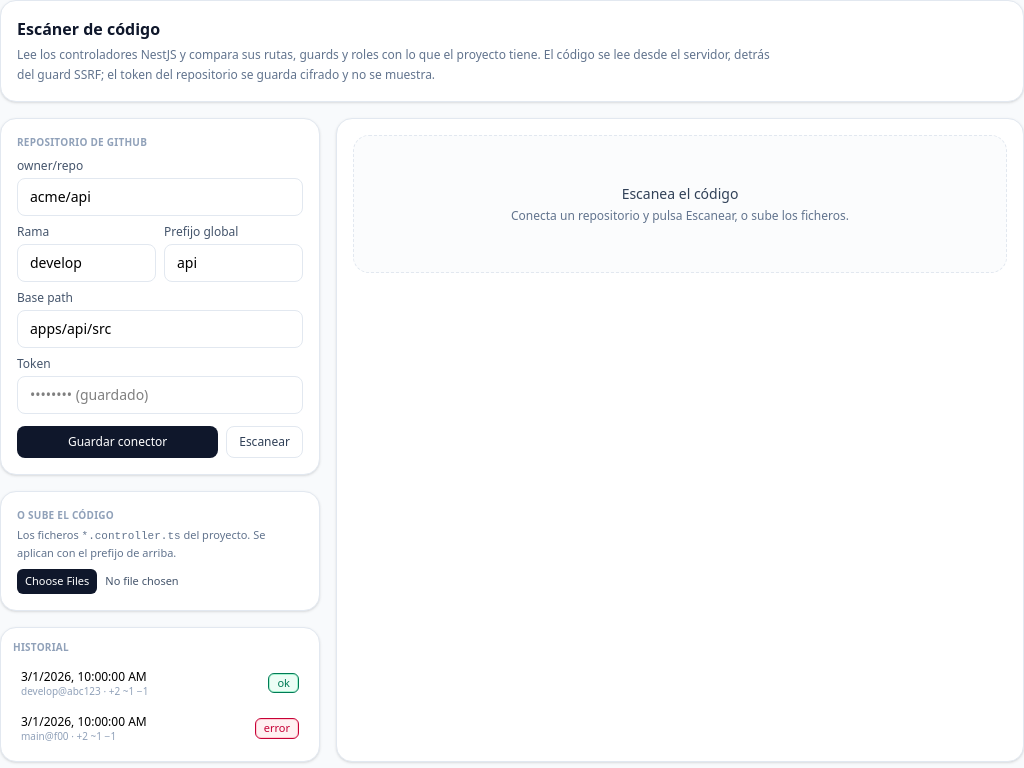
Test case: el escáner de código › elegir un escaneo del historial lo abre; uno fallido dice por qué
What coordinates should you click on to do the following:
click the text "main@f00 · +2 ~1 −1"
I would click on:
 (69, 736)
Its box is [21, 729, 116, 743].
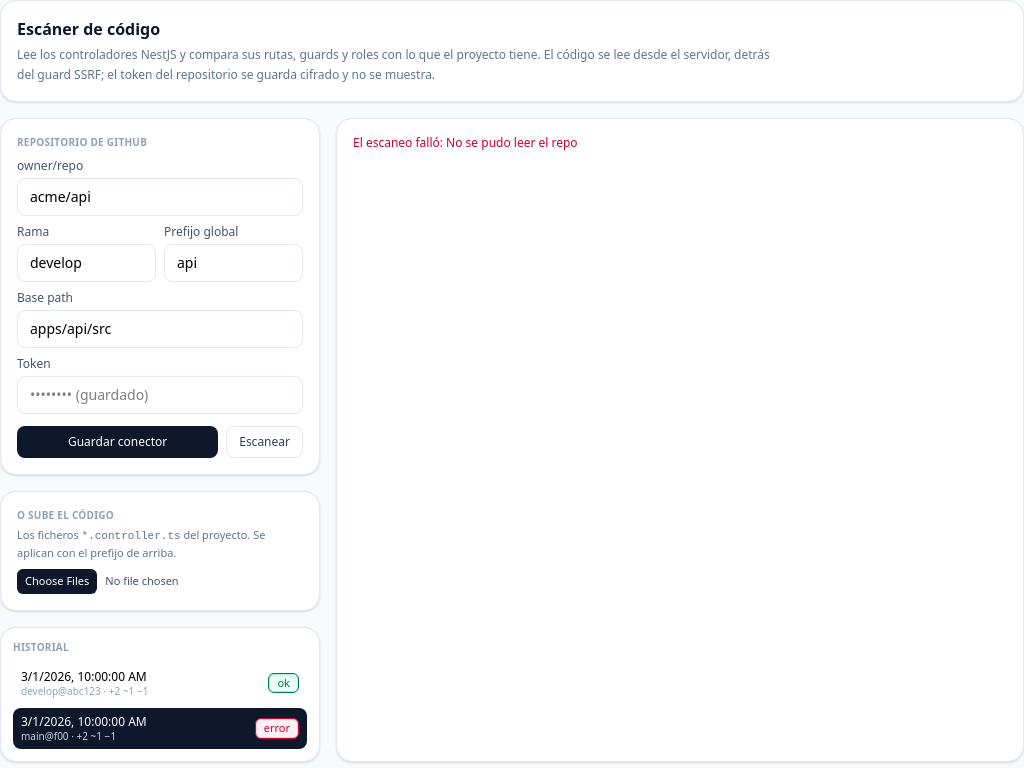
Expected: the text "El escaneo falló: No se pudo leer el repo" is shown, [353, 134, 578, 151]
What coordinates should you click on to do the following:
click the text "develop@abc123 · +2 ~1 −1"
I would click on:
 (85, 690)
Its box is [21, 684, 148, 698].
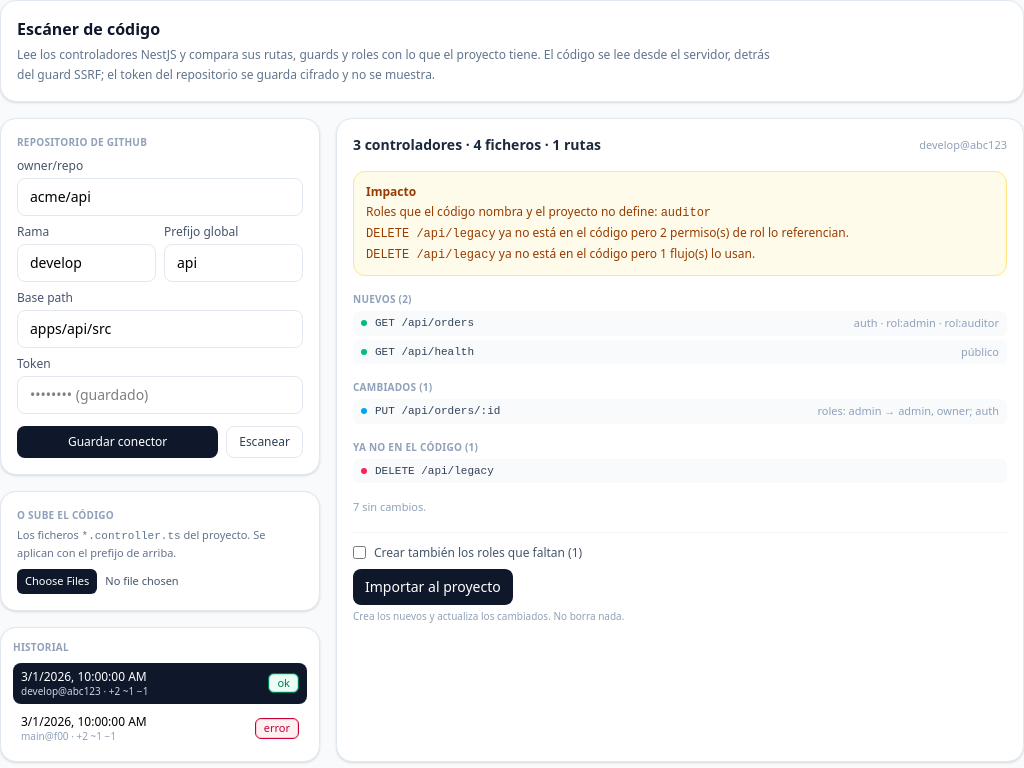
Expected: the text "3 controladores · 4 ficheros · 1 rutas" is shown, [353, 135, 601, 155]
